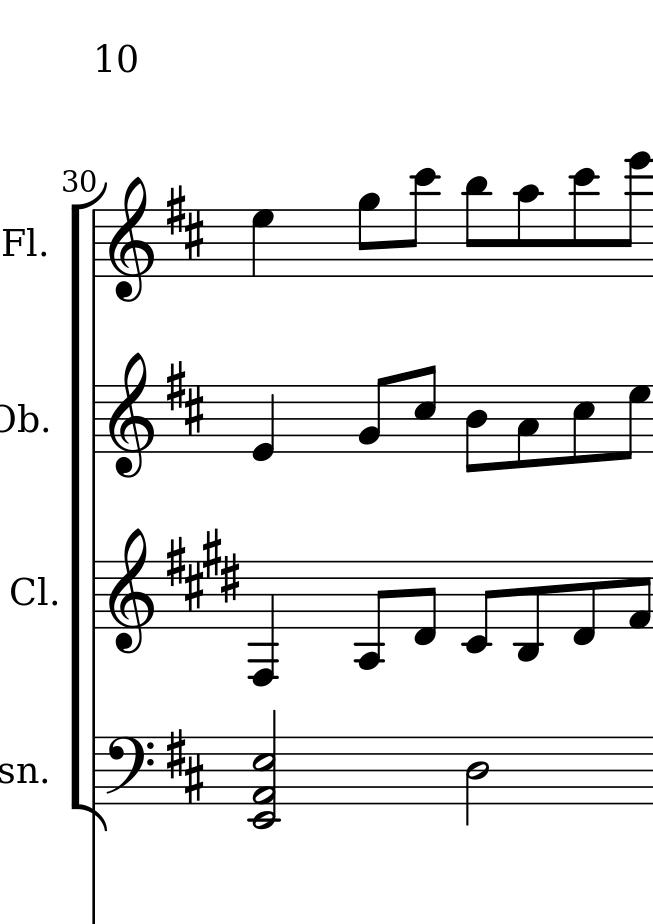0: (114, 39, 139, 76), (80, 167, 96, 192)
1: (93, 40, 111, 75)
2_4: (464, 735, 489, 823)
2_th: (248, 716, 282, 827)
3: (61, 168, 78, 193)
4_-6: (248, 560, 278, 688)
4_0: (252, 381, 277, 464)
4_7: (251, 208, 275, 278)
8_-1: (570, 559, 598, 648), (414, 559, 439, 646)
8_-2: (461, 559, 496, 654)
8_-3: (514, 564, 544, 663)
8_-4: (355, 559, 388, 669)
8_1: (626, 558, 651, 631)
8_10: (516, 183, 541, 279)
8_11: (464, 173, 491, 277)
8_12: (405, 164, 438, 279), (570, 166, 599, 280)
8_2: (358, 375, 391, 453)
8_3: (516, 384, 540, 471)
8_4: (464, 385, 489, 475)
8_5: (413, 363, 438, 455), (571, 383, 596, 465)
8_7: (620, 383, 649, 461)
8_9: (357, 192, 380, 277)
Bracke: (67, 182, 109, 829)
Cl: (9, 575, 50, 608)
D_S: (165, 527, 241, 610), (165, 182, 206, 261), (166, 357, 204, 437), (167, 724, 204, 805)
Fclef: (104, 735, 154, 807)
Fl: (2, 225, 36, 260)
Gclef: (105, 527, 156, 658), (107, 352, 157, 480), (107, 175, 154, 306)
Single_barline: (86, 738, 102, 804), (86, 387, 102, 452), (87, 562, 102, 628), (87, 211, 101, 275)
